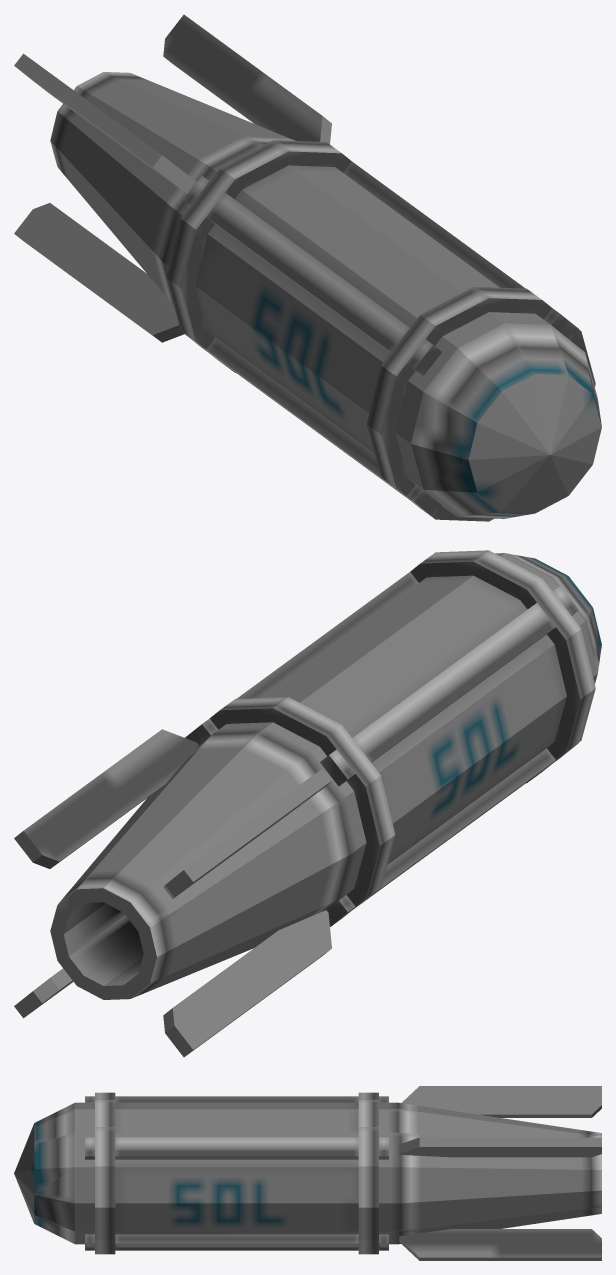
File: the_blue_rinse.obj
The picture shows the model from 3 angles, top to bottom: view 1: azimuth 30°, elevation 25°; view 2: azimuth 150°, elevation 25°; view 3: azimuth 270°, elevation 25°; orthographic projection. The views are drawn at different scales.
Parts seen in each view (by area): view 1: Cylinder.001; view 2: Cylinder.001; view 3: Cylinder.001.
Part boxes in pixels (<box>): Cylinder.001: <box>14,14,601,521</box>; Cylinder.001: <box>14,550,601,1057</box>; Cylinder.001: <box>14,1086,601,1260</box>.
Bounding box in the file's own units: 1 × 1 × 3.62.
